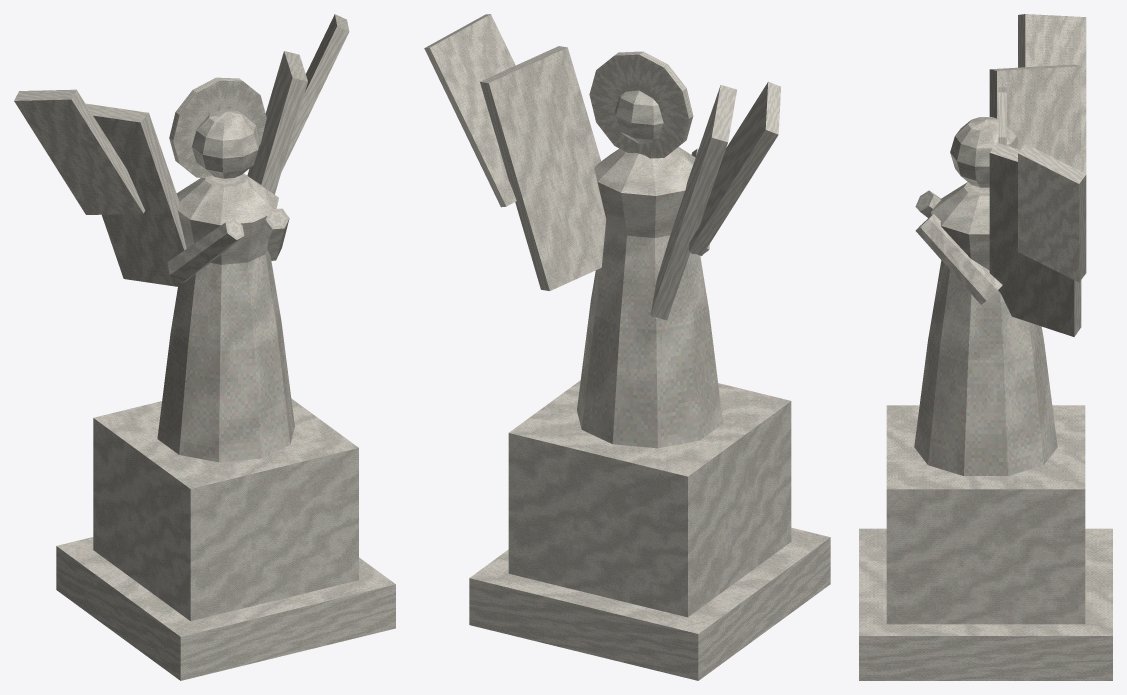
File: estatua_de_anjo.glb
3 views of the same model, side by side, from view 1: azimuth 30°, elevation 25°; view 2: azimuth 150°, elevation 25°; view 3: azimuth 270°, elevation 25° (orthographic). The views are drawn at different scales.
Visible parts, largest first — view 1: estatua_de_anjo; view 2: estatua_de_anjo; view 3: estatua_de_anjo.
Boxes of the visible parts, left/top/right/bottom form: estatua_de_anjo: left=14, top=14, right=395, bottom=680; estatua_de_anjo: left=424, top=14, right=830, bottom=680; estatua_de_anjo: left=859, top=14, right=1112, bottom=680.
Bounding box in the file's own units: 1.42 × 2.19 × 0.92.
Materials: 1 (1 with a texture image).
